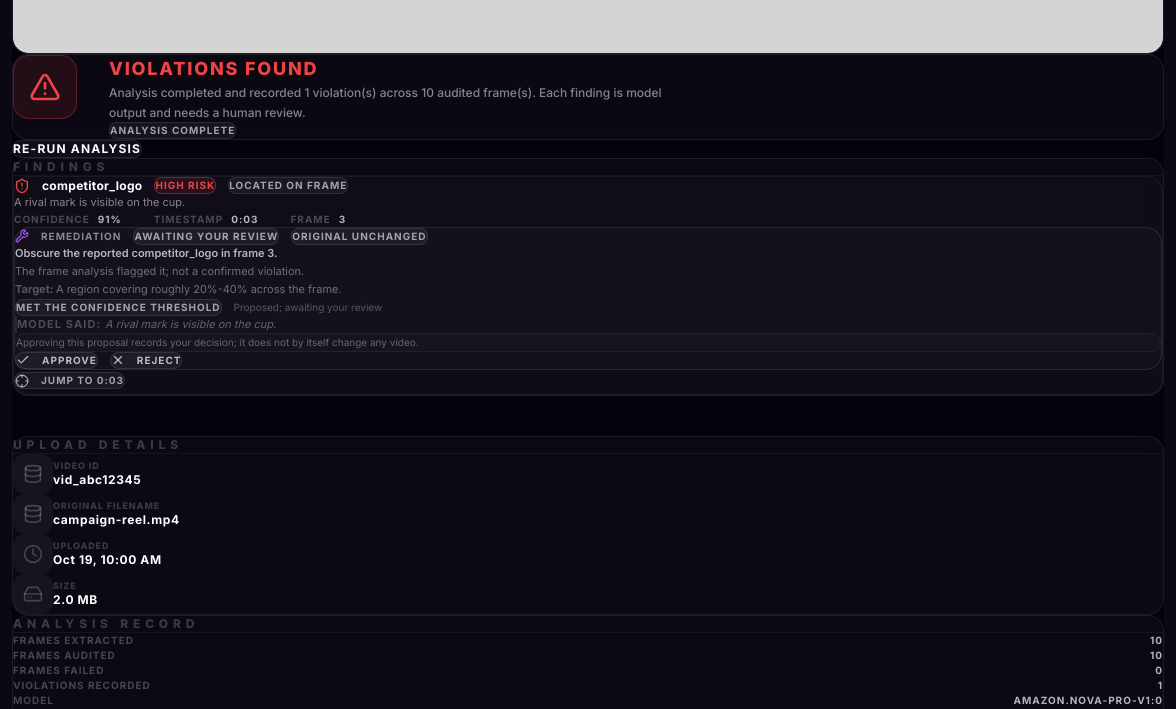
Scenario: remediation on a completed audit › approves a proposal and reports it as approved, not resolved
This screenshot has width=1176, height=709.
(page scrolled)
Click the button with test id "approve-rem_abc123abc123": [56, 360] box [15, 352, 98, 369]
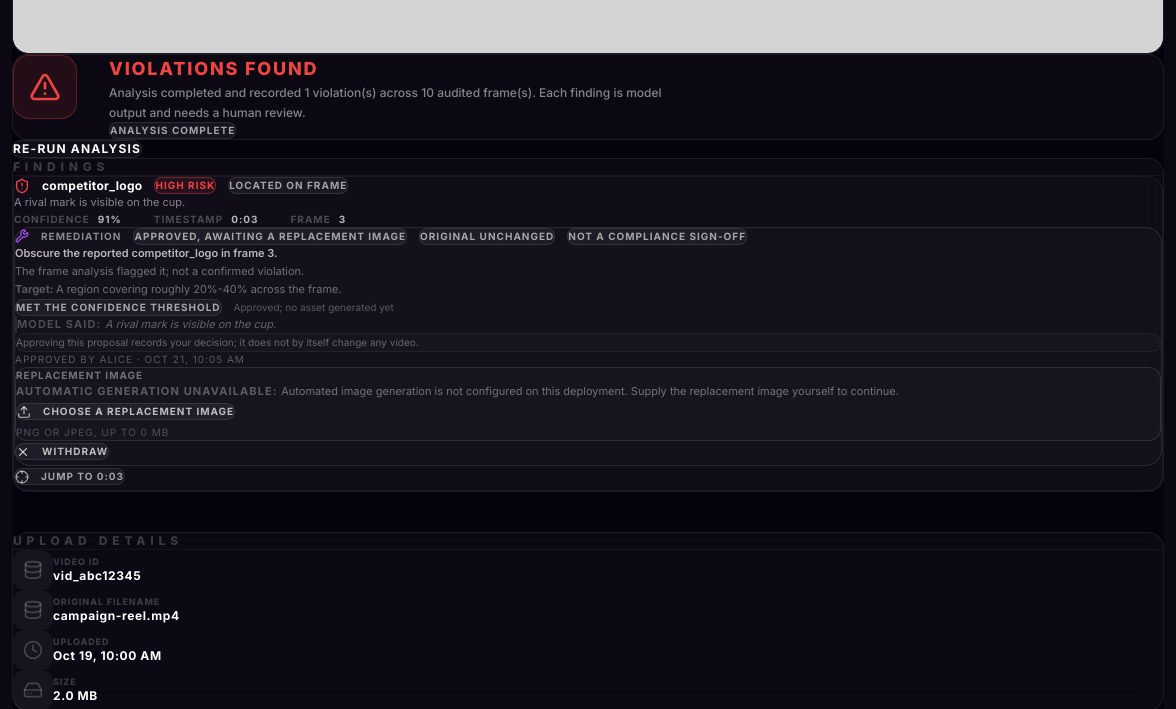
Expected: the heading with test id "verdict-title" reads "Violations found", [109, 58, 318, 79]
Expected: the text "Approved, awaiting a replacement image" is shown, [134, 228, 407, 245]
